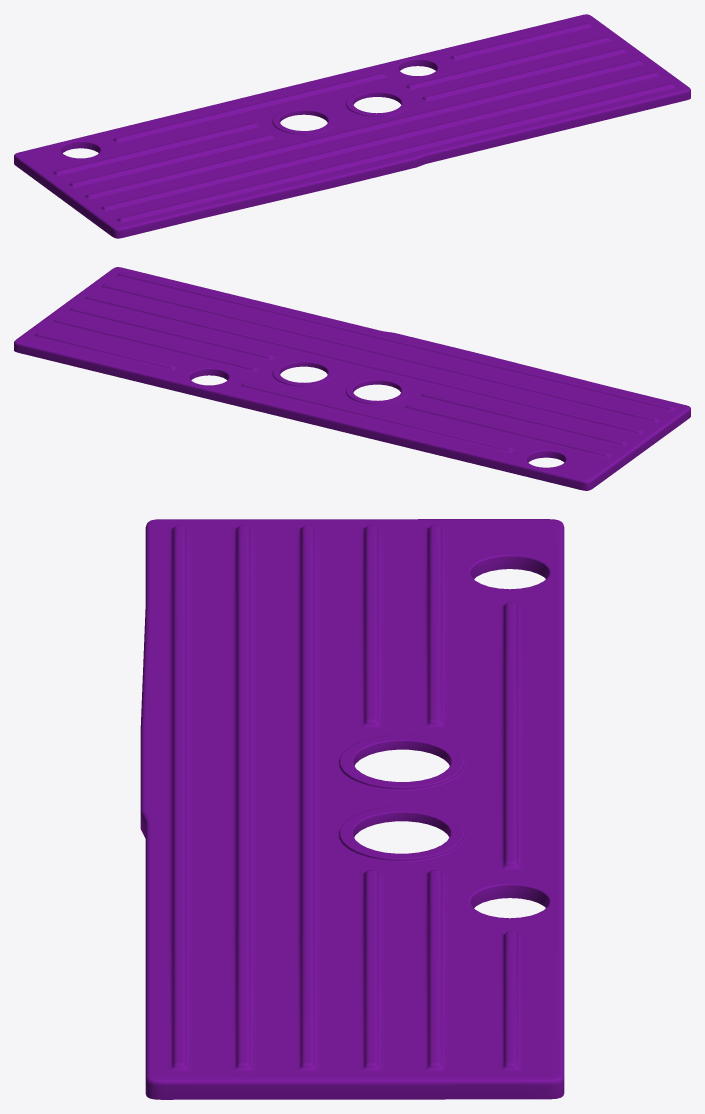
The model's file is SM_Kaffeemaschine_Gitter.fbx.
3 renders of one model, top to bottom at view 1: azimuth 30°, elevation 25°; view 2: azimuth 150°, elevation 25°; view 3: azimuth 270°, elevation 25°, orthographic. The views are drawn at different scales.
Parts seen in each view (by area): view 1: SM_Kaffeemaschine_Gitter; view 2: SM_Kaffeemaschine_Gitter; view 3: SM_Kaffeemaschine_Gitter.
Part boxes in pixels (left/top/right/bottom): SM_Kaffeemaschine_Gitter: left=14, top=14, right=690, bottom=238; SM_Kaffeemaschine_Gitter: left=14, top=267, right=690, bottom=490; SM_Kaffeemaschine_Gitter: left=140, top=519, right=564, bottom=1099.
Bounding box in the file's own units: 26.58 × 0.5163 × 8.45.
